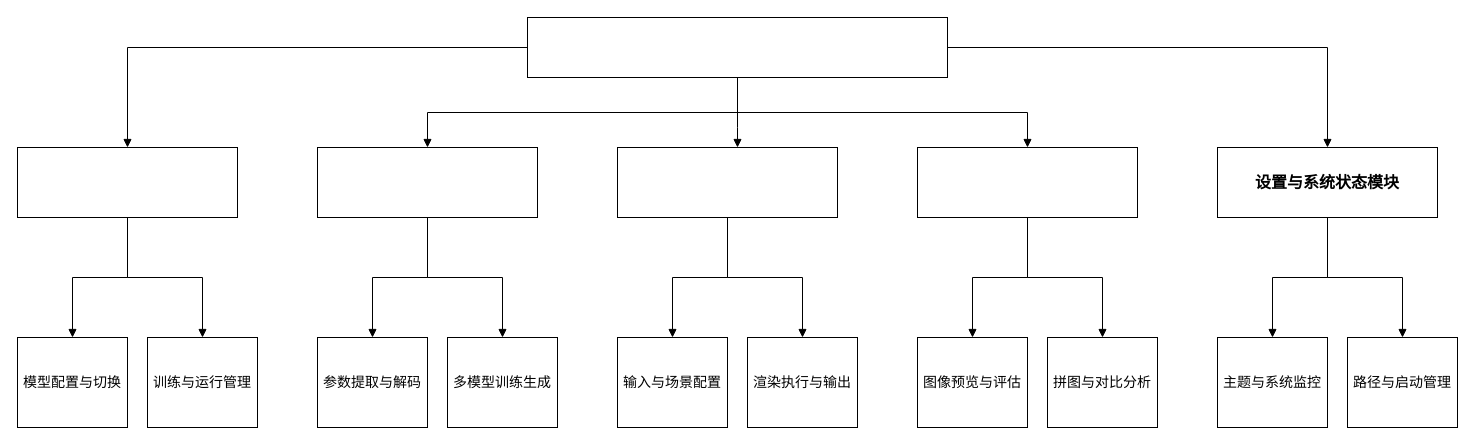
Some shapes in this 1475 by 445 pixel diagram are drawn without their labels. Each missing label, with the box of its shape:
MatReflect_NN 功能模块图: (526, 16, 948, 78)
材质重建与表达模块: (316, 146, 538, 218)
渲染可视化与交互模块: (616, 146, 838, 218)
结果对比与分析模块: (916, 146, 1138, 218)
网络模型管理模块: (16, 146, 238, 218)
